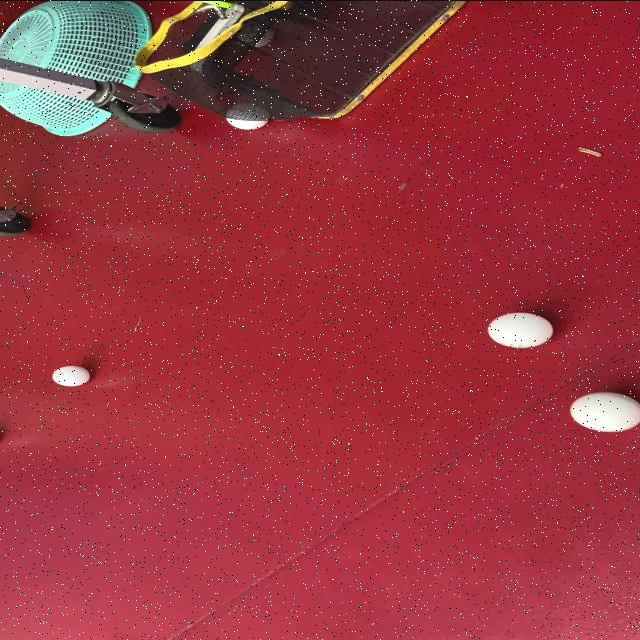ping-pong-ball: (568, 390, 640, 432), (485, 310, 556, 348), (221, 102, 274, 129), (49, 364, 92, 386)
